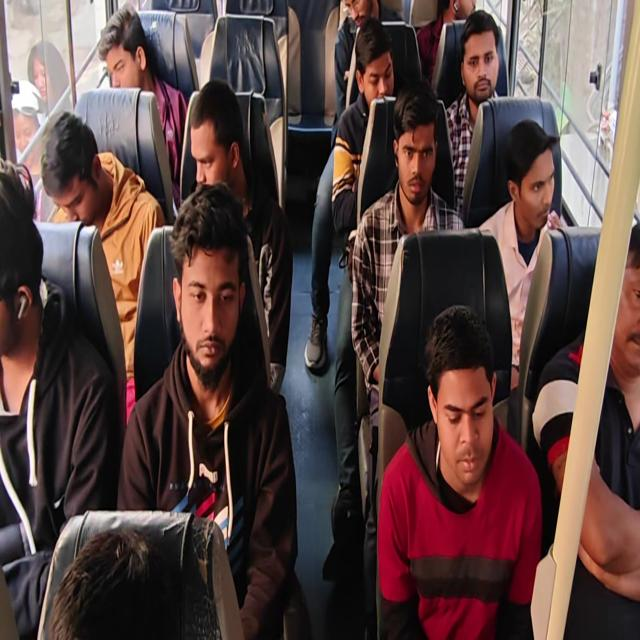person: (40, 514, 209, 640), (167, 177, 247, 386), (413, 304, 493, 508), (1, 147, 37, 381), (38, 113, 110, 226), (188, 59, 245, 195), (602, 210, 640, 399), (95, 13, 165, 115), (394, 64, 441, 210), (501, 111, 561, 224), (462, 7, 506, 123), (352, 17, 399, 107), (441, 0, 476, 28), (342, 0, 379, 16)
